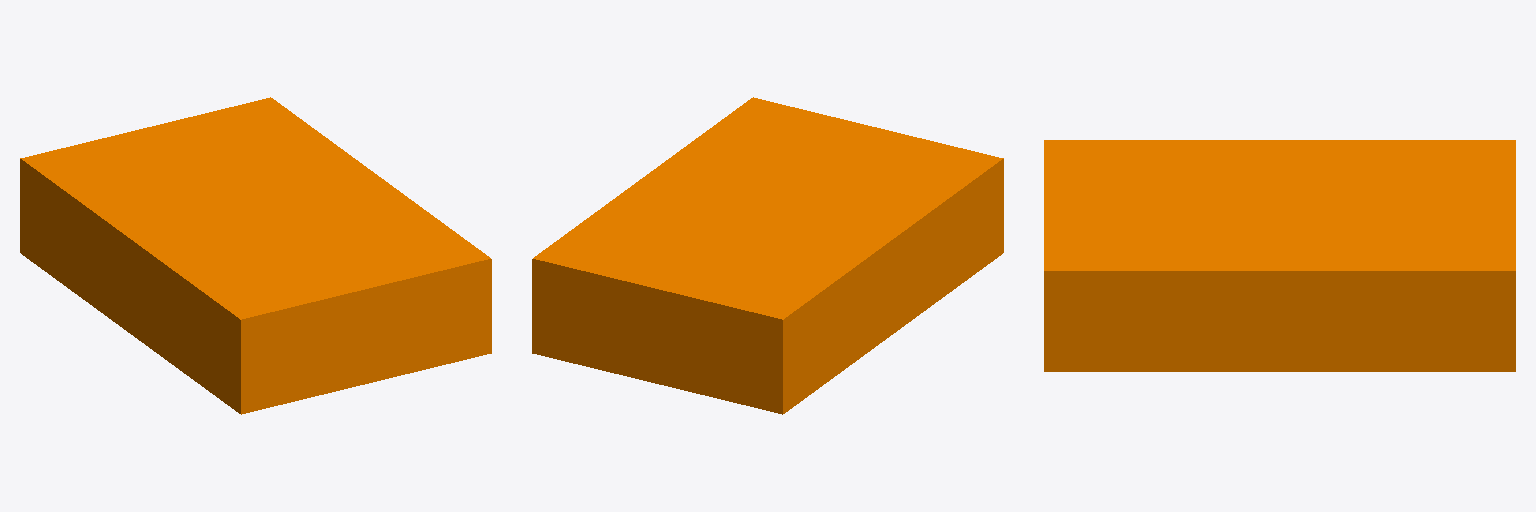
robot.urdf — myfirst:
<?xml version="1.0"?>
 <robot name="myfirst">
   <material name="darkOrange">
     <color rgba="1 0.5647 0 1"/>
   </material>
   <link name="right_leg">
     <visual>
       <geometry>
         <!-- "0.1968 0.2505 0.0725" -->
         <box size="0.1965 0.299 0.0711"/>
       </geometry>
       <material name="darkOrange"/>
     </visual>
     <collision>
       <geometry>
         <box size="0.1965 0.299 0.0711"/>
       </geometry>
     </collision>
     <inertial>
       <mass value="1"/>
       <inertia ixx="1.0" ixy="0.0" ixz="0.0" iyy="1.0" iyz="0.0" izz="1.0"/>
     </inertial>
   </link>
 </robot>

--- Render facts (derived) ---
Views: 3 orthographic renders of the robot side by side, from view 1: azimuth 30°, elevation 25°; view 2: azimuth 150°, elevation 25°; view 3: azimuth 270°, elevation 25°.
Model myfirst with 1 links and 0 joints (none), rooted at right_leg, posed every joint at zero.
Visible links, largest first — view 1: right_leg; view 2: right_leg; view 3: right_leg.
Link boxes in pixels (x1,y1,x2,y2): right_leg: (20,97,491,414); right_leg: (532,97,1003,414); right_leg: (1044,140,1515,371).
Size in the robot's own frame: 0.1965 by 0.299 by 0.0711 metres.
Geometry: primitives only (box / cylinder / sphere), no mesh files.